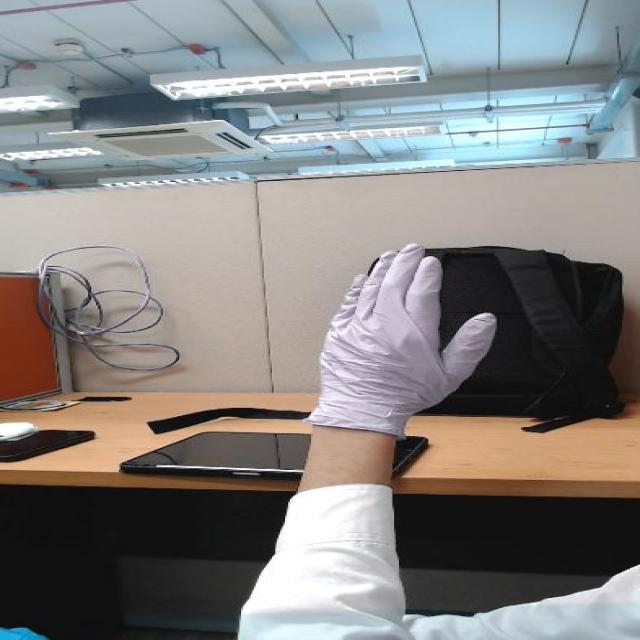with_gloves: (300, 230, 518, 392)
